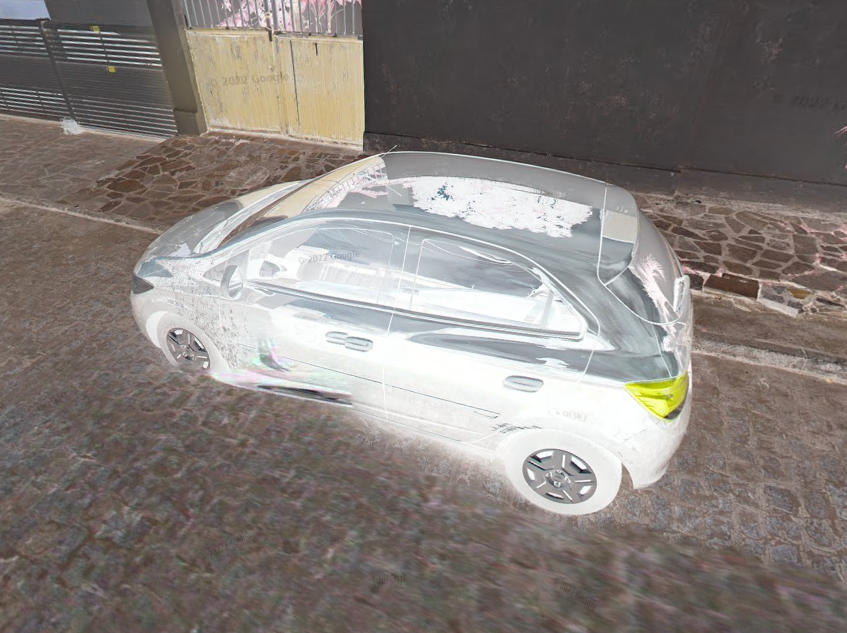car: (125, 139, 695, 520)
